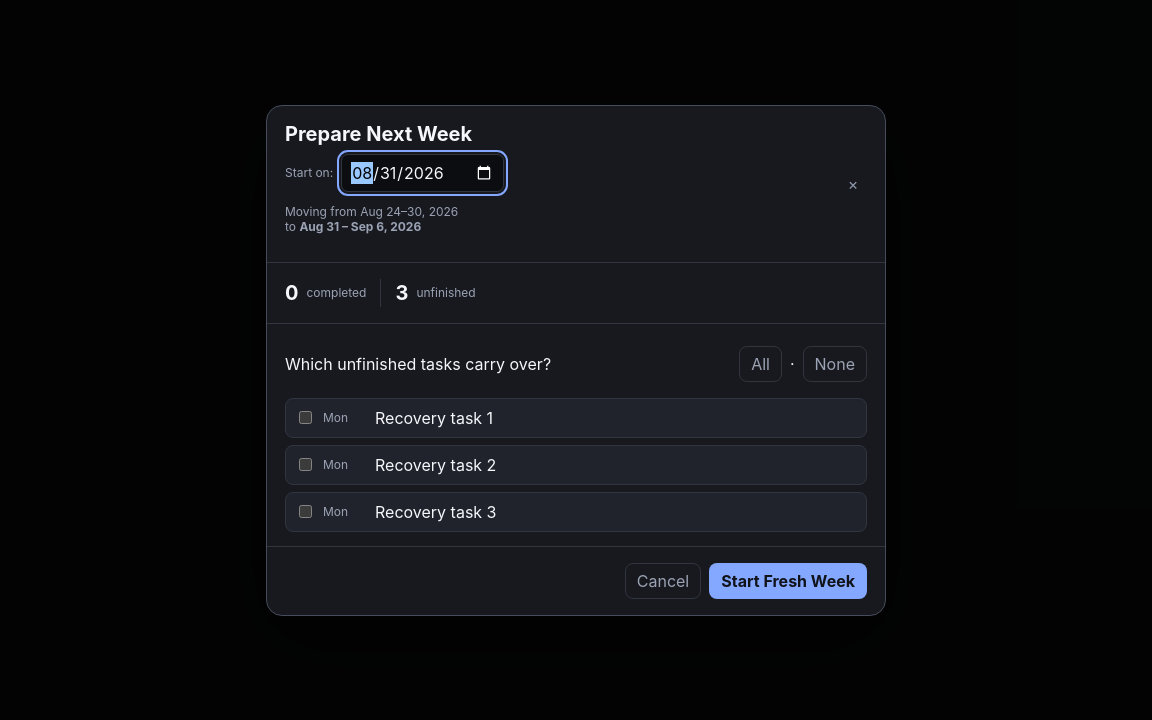
Test case: WeekReview dialog › preserves carry-over capacity validation
Click the button "All" at (761, 364), box [739,346,782,382]
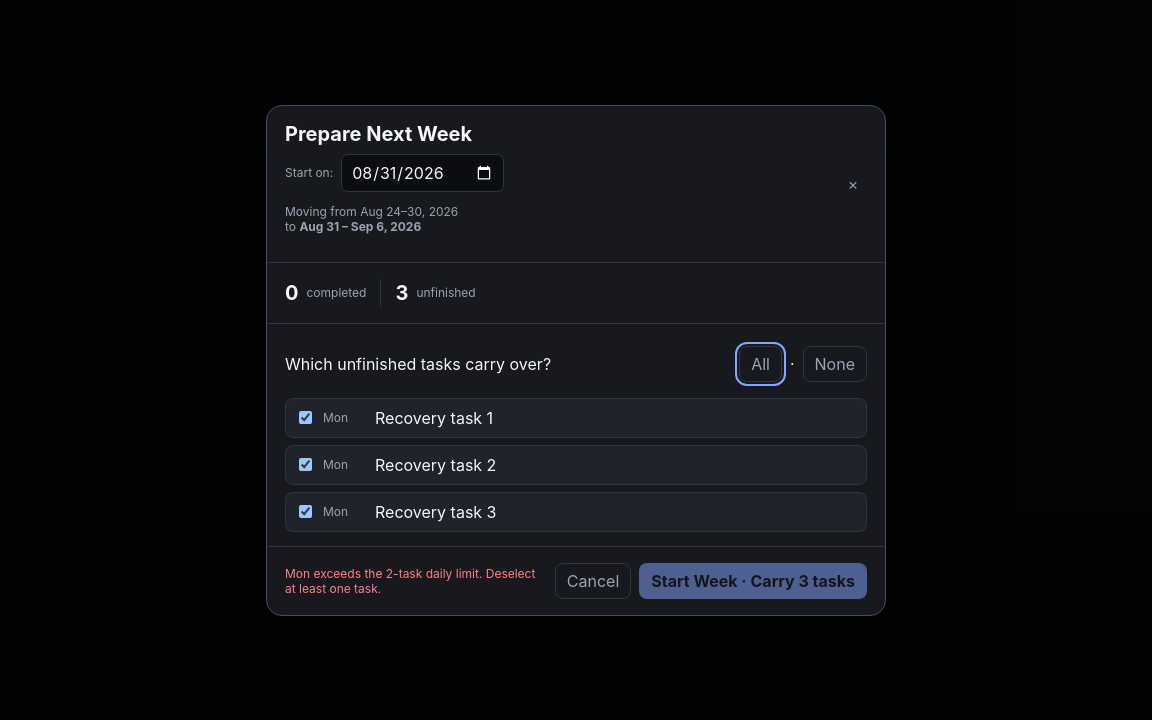
Result: the message shows "Mon exceeds the 2-task daily limit" at [285,566,535,596]
Result: the button "Start Week · Carry 3 tasks" is disabled at [639,562,867,598]
Click the checkbox labelled "Mon Recovery task 3" at (306, 512), box [299,505,312,518]
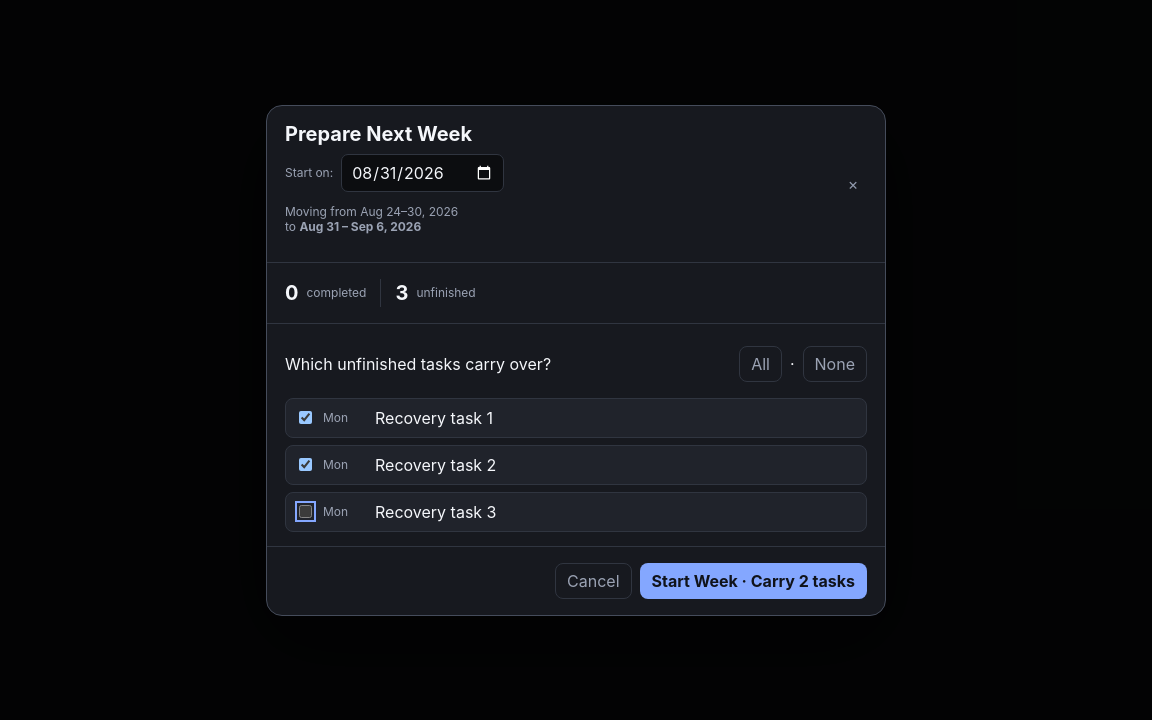
Result: the message "Mon exceeds the 2-task daily limit. Deselect at least one task." is gone
Result: the button "Start Week · Carry 2 tasks" is enabled at [640,562,867,598]
